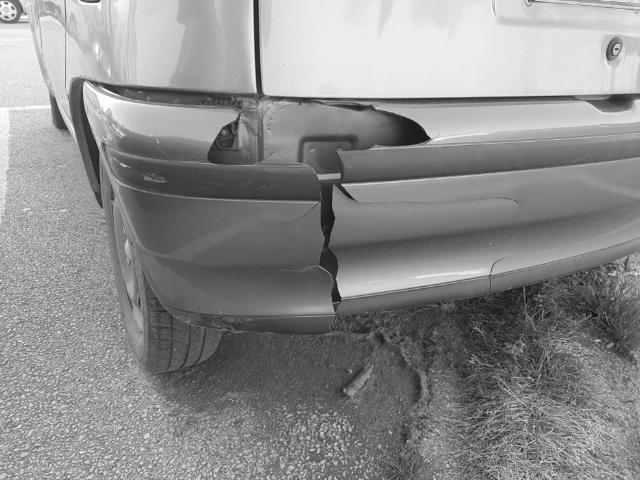Bumper: (85, 86, 468, 337)
Light: (210, 97, 422, 157)
